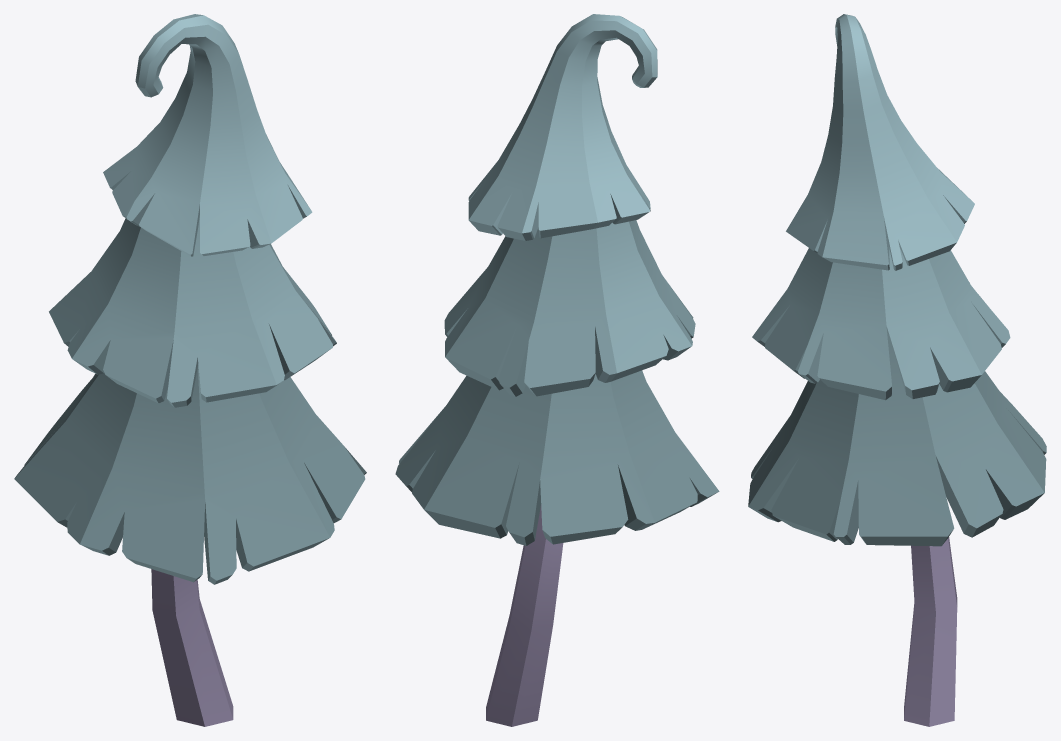
File: Mystic_Tree_M_B1.fbx
The picture shows the model from 3 angles, left to right: view 1: azimuth 30°, elevation 25°; view 2: azimuth 150°, elevation 25°; view 3: azimuth 270°, elevation 25°; orthographic projection. The views are drawn at different scales.
Visible parts, largest first — view 1: Mystic_Tree_M_B1; view 2: Mystic_Tree_M_B1; view 3: Mystic_Tree_M_B1.
Part boxes in pixels (<box>): Mystic_Tree_M_B1: <box>14,14,366,726</box>; Mystic_Tree_M_B1: <box>395,14,719,726</box>; Mystic_Tree_M_B1: <box>748,14,1046,726</box>.
Bounding box in the file's own units: 378 × 932 × 378.
